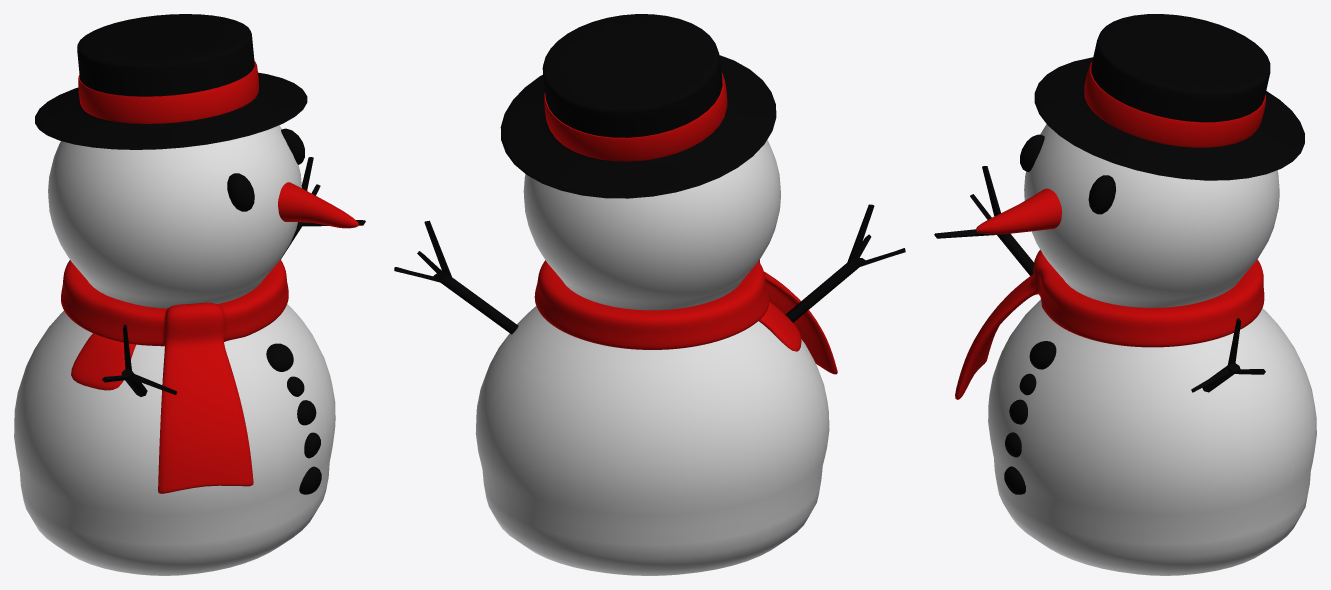
3 views of the same model, side by side, from view 1: azimuth 30°, elevation 25°; view 2: azimuth 150°, elevation 25°; view 3: azimuth 270°, elevation 25° (orthographic).
Parts seen in each view (by area): view 1: 449; view 2: 449; view 3: 449.
Boxes of the visible parts, <box> form: 449: <box>14,14,365,575</box>; 449: <box>394,14,905,575</box>; 449: <box>934,14,1316,575</box>.
Size of the model in its own units: 31.73 by 28.06 by 40.29.
